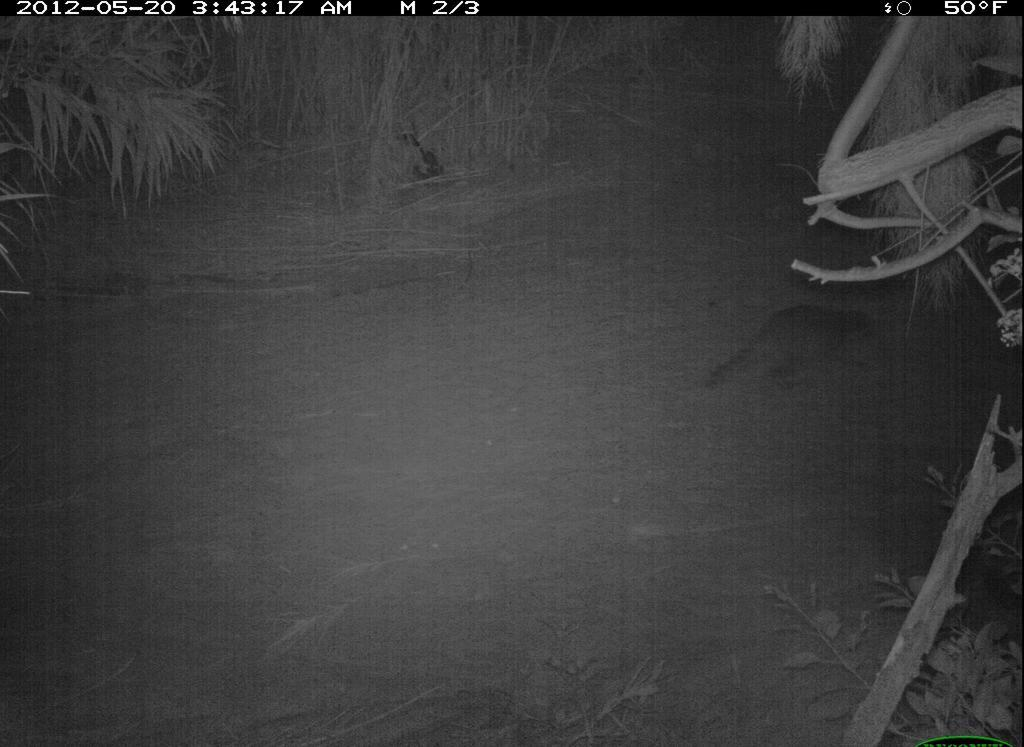raccoon: (702, 290, 893, 405)
